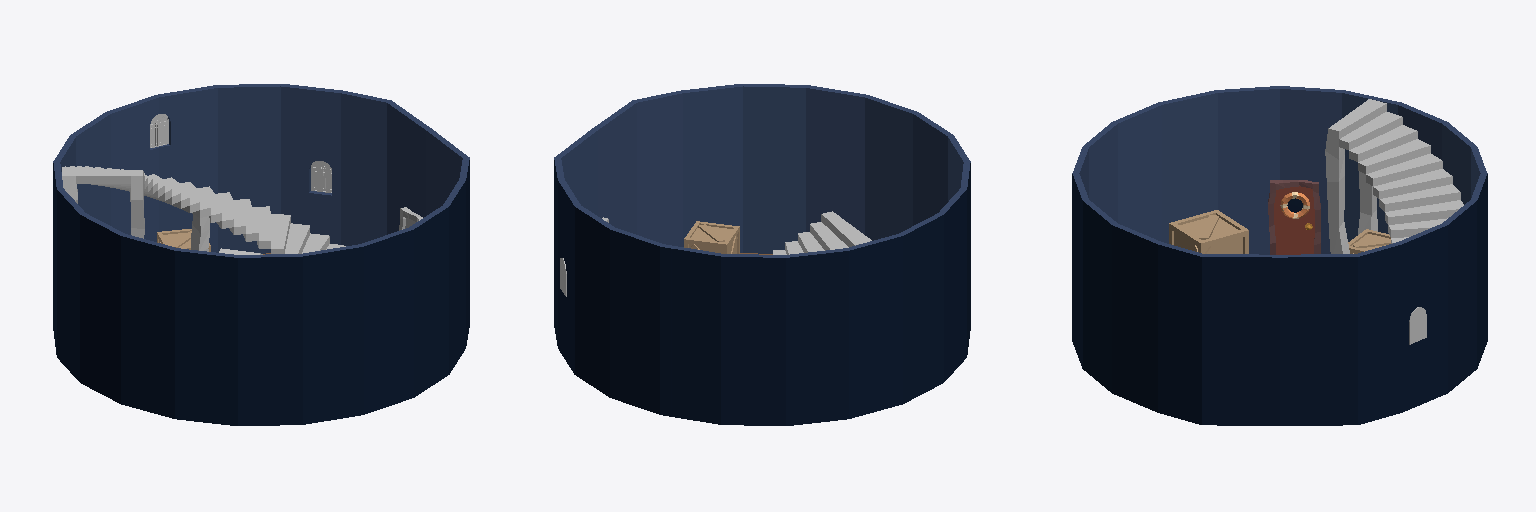
The picture shows the model from 3 angles: view 1: azimuth 30°, elevation 25°; view 2: azimuth 150°, elevation 25°; view 3: azimuth 270°, elevation 25°; orthographic projection.
Parts seen in each view (by area): view 1: pCylinder1, stairs, pCube122, pCube135, pCube123; view 2: pCylinder1, stairs, pCube137; view 3: pCylinder1, stairs, polySurface1, pCube136, pCube138, pCube122.
Part boxes in pixels (left/top/right/bottom): pCylinder1: left=53, top=84, right=469, bottom=425; stairs: left=62, top=166, right=345, bottom=253; pCube122: left=311, top=161, right=331, bottom=192; pCube135: left=157, top=229, right=210, bottom=251; pCube123: left=150, top=114, right=168, bottom=147; pCylinder1: left=554, top=84, right=970, bottom=425; stairs: left=773, top=211, right=871, bottom=254; pCube137: left=684, top=221, right=739, bottom=253; pCylinder1: left=1072, top=86, right=1487, bottom=425; stairs: left=1325, top=99, right=1463, bottom=253; polySurface1: left=1268, top=180, right=1320, bottom=254; pCube136: left=1169, top=210, right=1248, bottom=253; pCube138: left=1348, top=229, right=1390, bottom=253; pCube122: left=1409, top=307, right=1426, bottom=344.
Size of the model in its own units: 12.55 by 5.75 by 12.82.
11 materials, 5 textured.